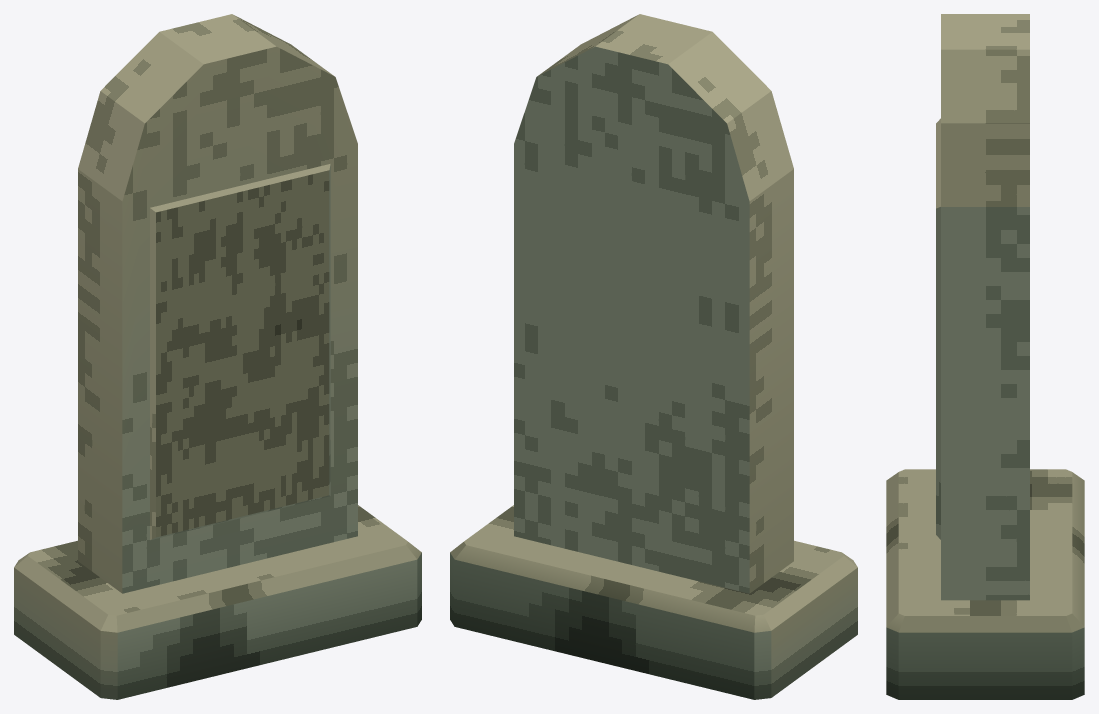
The model's file is relic.tablet.glb.
3 renders of one model, left to right at view 1: azimuth 30°, elevation 25°; view 2: azimuth 150°, elevation 25°; view 3: azimuth 270°, elevation 25°, orthographic.
Visible parts, largest first — view 1: kit_slab, kit_glyphs, kit_base; view 2: kit_slab, kit_base; view 3: kit_slab, kit_base, kit_glyphs.
Part boxes in pixels (<box>): kit_slab: <box>78,14,357,593</box>; kit_glyphs: <box>150,164,330,540</box>; kit_base: <box>14,505,421,699</box>; kit_slab: <box>514,14,793,593</box>; kit_base: <box>450,505,857,699</box>; kit_slab: <box>941,14,1029,600</box>; kit_base: <box>886,469,1084,699</box>; kit_glyphs: <box>936,118,940,539</box>.
Bounding box in the file's own units: 1.5 × 2.62 × 0.8.
Materials: 3 (3 with a texture image).
